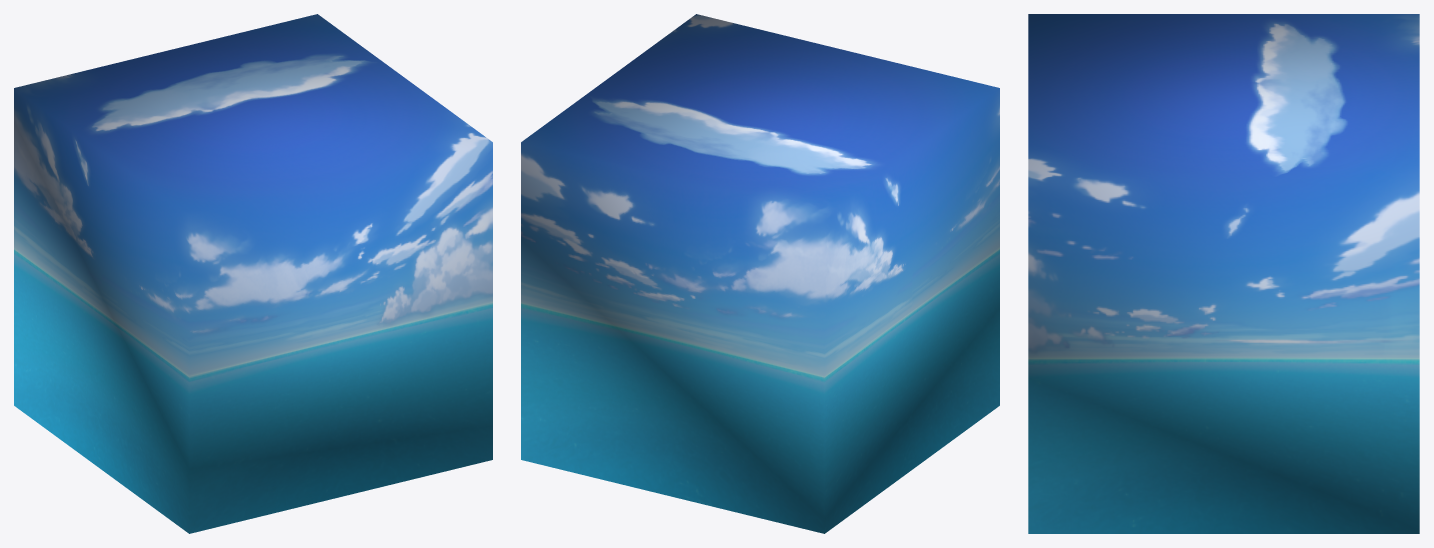
File: _PoppiCorny_Skybox.fbx
3 renders of one model, left to right at view 1: azimuth 30°, elevation 25°; view 2: azimuth 150°, elevation 25°; view 3: azimuth 270°, elevation 25°, orthographic. The views are drawn at different scales.
Visible parts, largest first — view 1: SM_Skybox; view 2: SM_Skybox; view 3: SM_Skybox.
Part boxes in pixels (x1,y1,x2,y2): SM_Skybox: (14, 14, 492, 533); SM_Skybox: (521, 14, 999, 533); SM_Skybox: (1028, 14, 1419, 533).
Size of the model in its own units: 66.12 by 66.12 by 66.12.
1 material, 1 textured.
